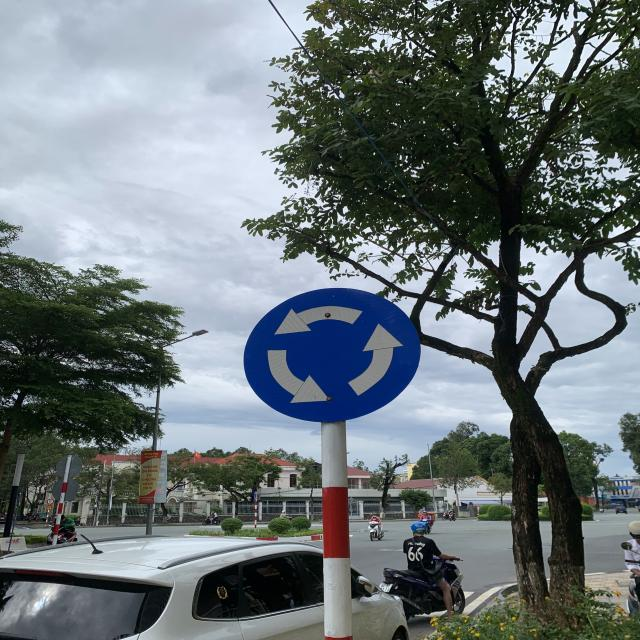Xe_Bus: (243, 287, 421, 422)
